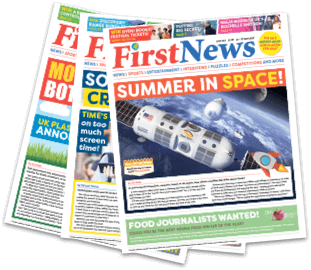news_paper: (1, 1, 269, 270), (96, 8, 311, 255), (61, 4, 258, 266)
